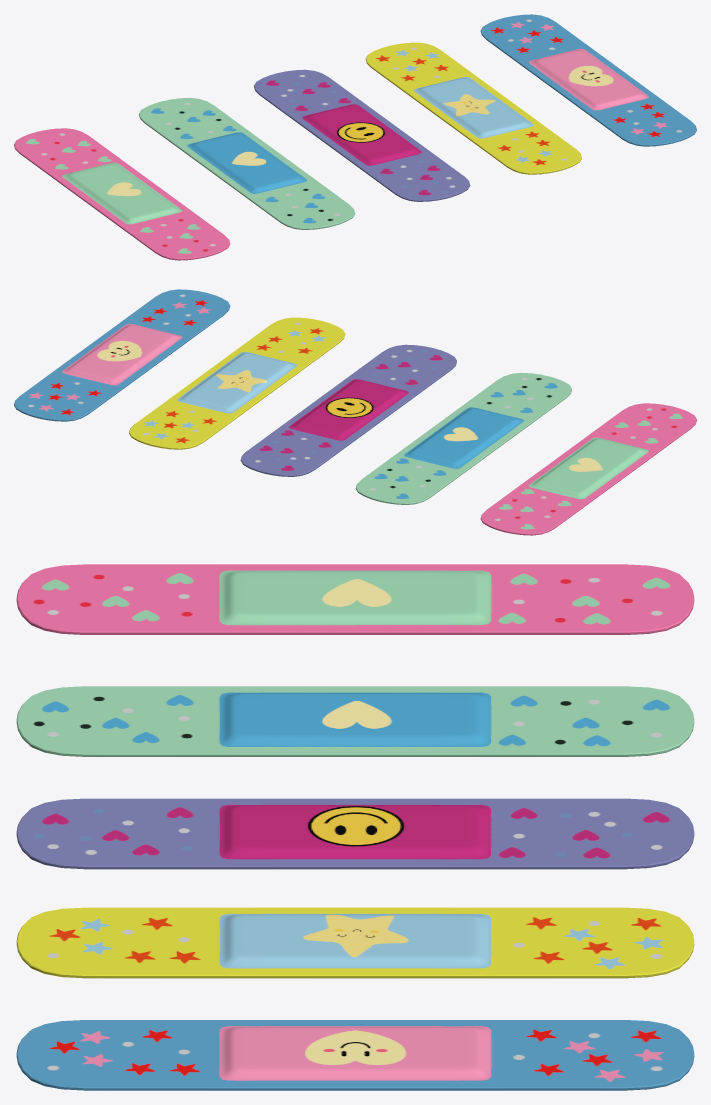
File: bandaid_set.glb
3 renders of one model, top to bottom at view 1: azimuth 30°, elevation 25°; view 2: azimuth 150°, elevation 25°; view 3: azimuth 270°, elevation 25°, orthographic. The views are drawn at different scales.
Visible parts, largest first — view 1: Bandage3, Bandage2, Bandage4, Bandage, Bandage1; view 2: Bandage3, Bandage2, Bandage4, Bandage, Bandage1; view 3: Bandage, Bandage3, Bandage1, Bandage4, Bandage2.
Boxes of the visible parts, x1,y1,x2,y2 form: Bandage3: (365,42,581,174); Bandage2: (480,14,696,146); Bandage4: (14,128,230,260); Bandage: (254,69,470,201); Bandage1: (139,97,355,229); Bandage3: (129,317,345,449); Bandage2: (14,289,230,421); Bandage4: (480,403,696,535); Bandage: (240,344,456,476); Bandage1: (355,372,571,504); Bandage: (16,798,694,869); Bandage3: (16,907,694,978); Bandage1: (16,686,694,756); Bandage4: (16,564,694,634); Bandage2: (16,1020,694,1090).
Size of the model in its own units: 0.034 by 0.000374 by 0.0186.
Materials: 5 (5 with a texture image).
